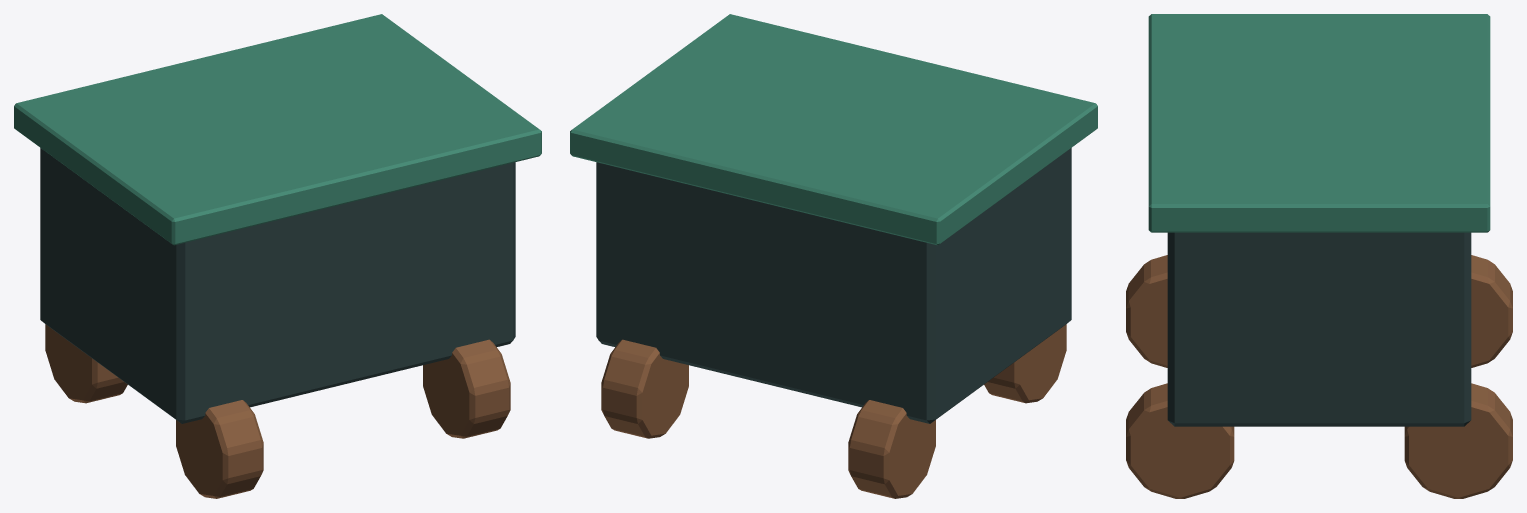
Rendered from ore_cart.fbx.
3 renders of one model, left to right at view 1: azimuth 30°, elevation 25°; view 2: azimuth 150°, elevation 25°; view 3: azimuth 270°, elevation 25°, orthographic. The views are drawn at different scales.
Visible parts, largest first — view 1: Hopper, HopperLip, Wheel.001, Wheel.003, Wheel; view 2: Hopper, HopperLip, Wheel, Wheel.002, Wheel.001; view 3: HopperLip, Hopper, Wheel.002, Wheel.003, Wheel, Wheel.001.
Part boxes in pixels (<box>): Hopper: <box>40,148,515,423</box>; HopperLip: <box>14,14,541,245</box>; Wheel.001: <box>176,400,263,498</box>; Wheel.003: <box>423,339,510,438</box>; Wheel: <box>45,324,127,403</box>; Hopper: <box>596,148,1071,423</box>; HopperLip: <box>570,14,1097,245</box>; Wheel: <box>848,400,935,498</box>; Wheel.002: <box>601,339,688,438</box>; Wheel.001: <box>984,324,1066,403</box>; HopperLip: <box>1148,14,1490,232</box>; Hopper: <box>1167,232,1471,426</box>; Wheel.002: <box>1404,383,1512,498</box>; Wheel.003: <box>1126,383,1234,498</box>; Wheel: <box>1471,255,1512,367</box>; Wheel.001: <box>1126,255,1167,367</box>.
Size of the model in its own units: 360 by 276 by 306.
